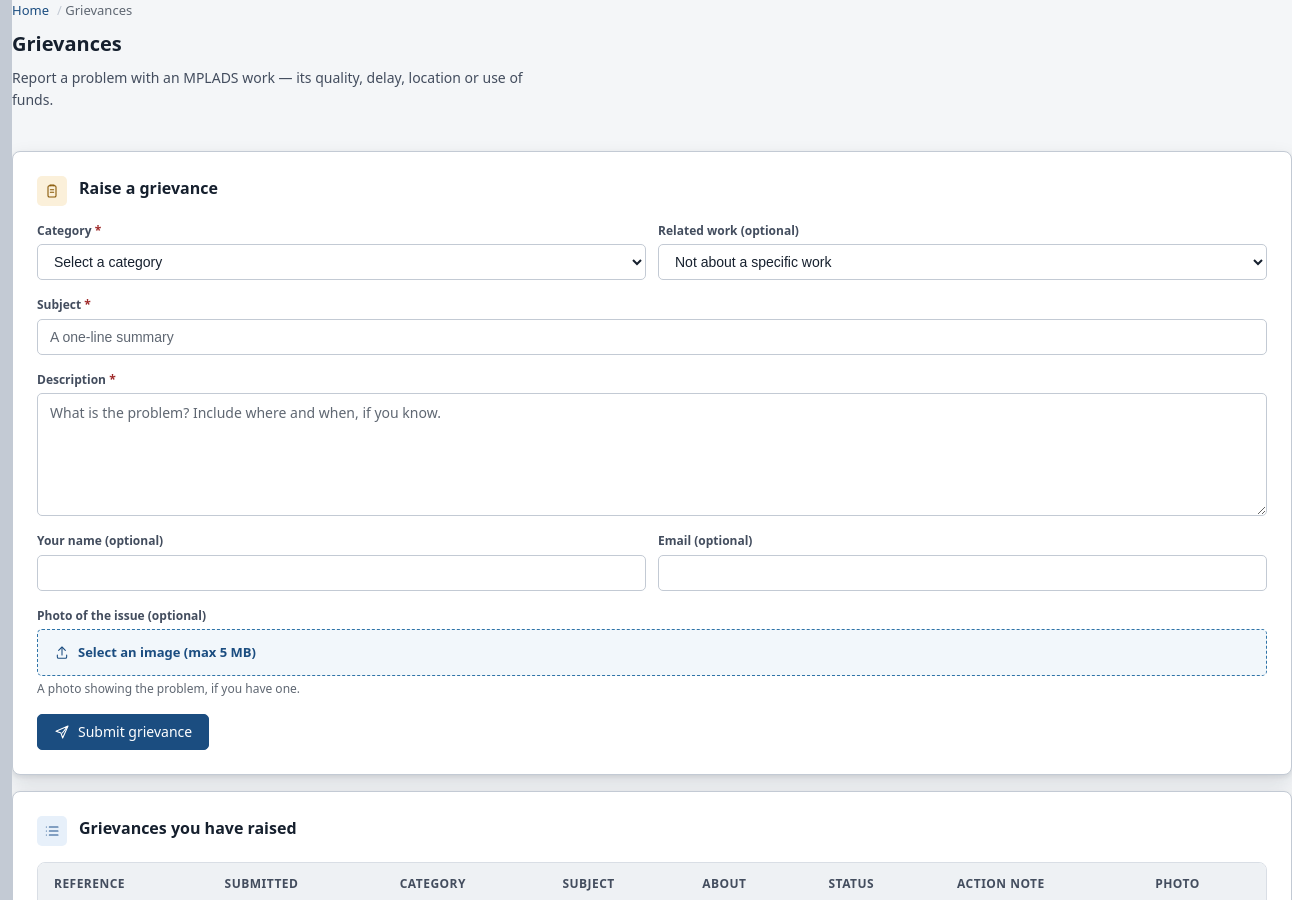
Test: Grievances — citizen view › records a valid grievance and shows it in the list
The image size is (1292, 900).
Expected: the button "Submit grievance" is shown, [37, 714, 209, 750]
Step 1. Select "Delay in execution" in the dropdown labelled "Category *" → (342, 262), box [37, 244, 646, 280]
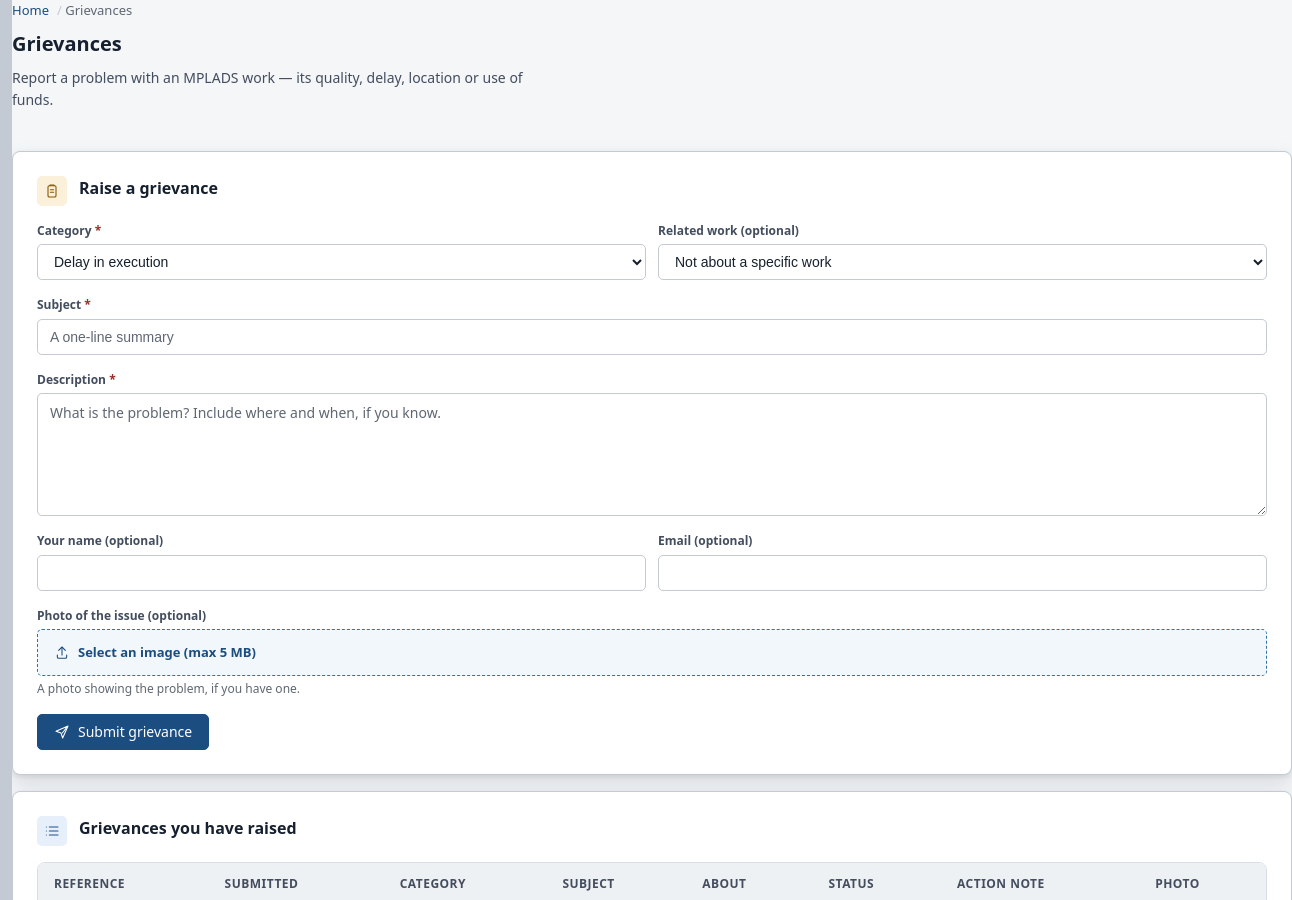
Step 2. Type "Road work not started" into the field labelled "Subject *" → (652, 337), box [37, 319, 1267, 355]
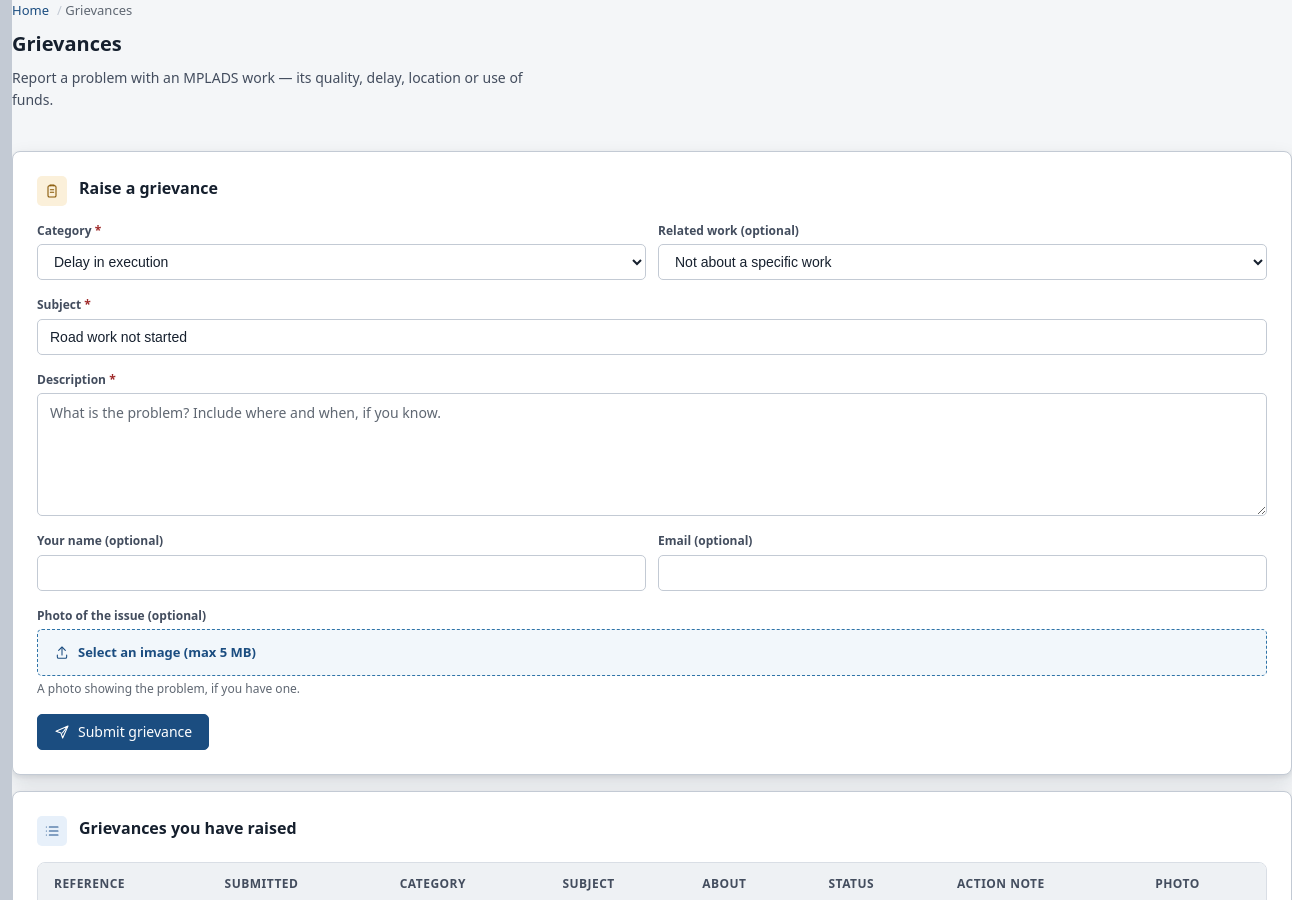
Step 3. Type "The approach road work has not begun despite being recommended last year." into the text box labelled "Description *" → (652, 455), box [37, 393, 1267, 516]
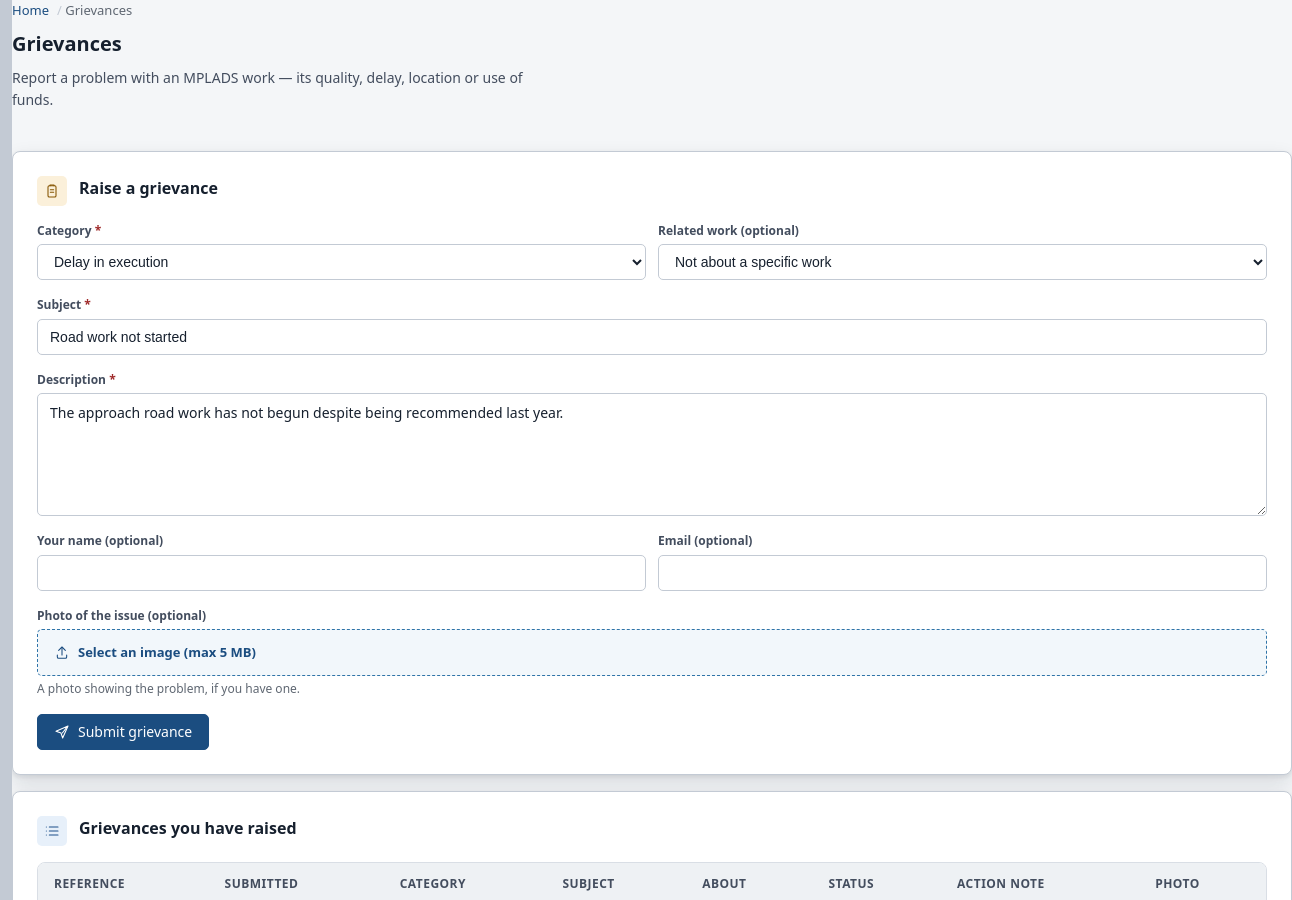
Step 4. Click the button "Submit grievance" → (123, 732), box [37, 714, 209, 750]
(page scrolled)
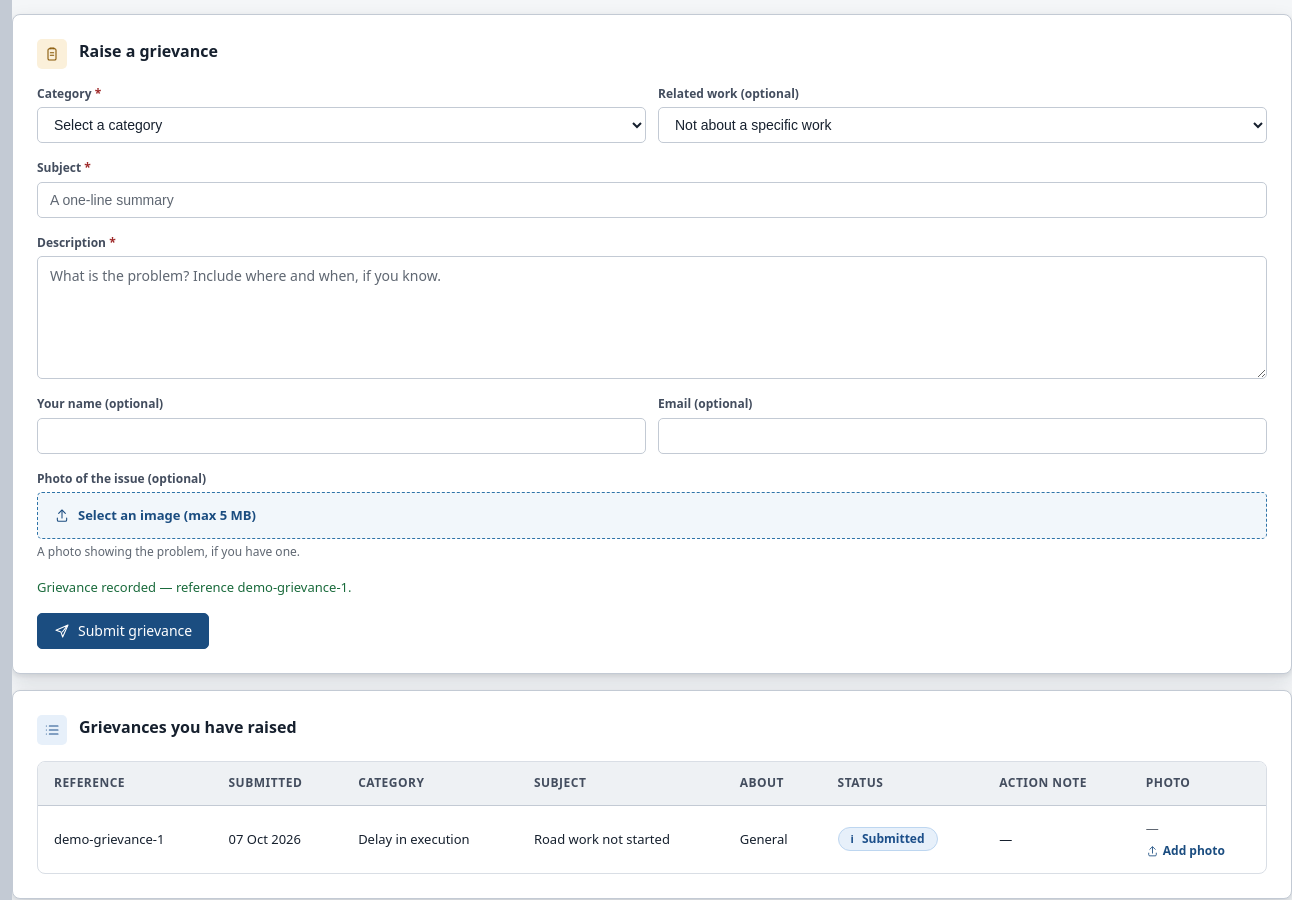
Result: the message shows "Grievance recorded" at [37, 578, 352, 596]
Result: the text "Road work not started" is shown at [518, 806, 724, 873]
